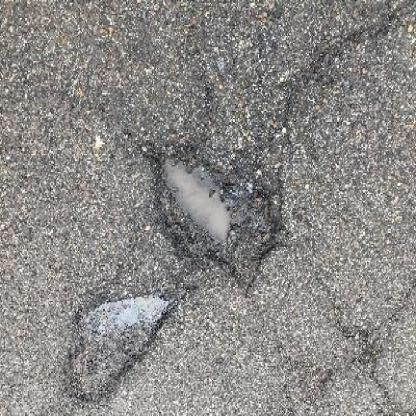pothole: (143, 143, 287, 301), (60, 292, 178, 409)
